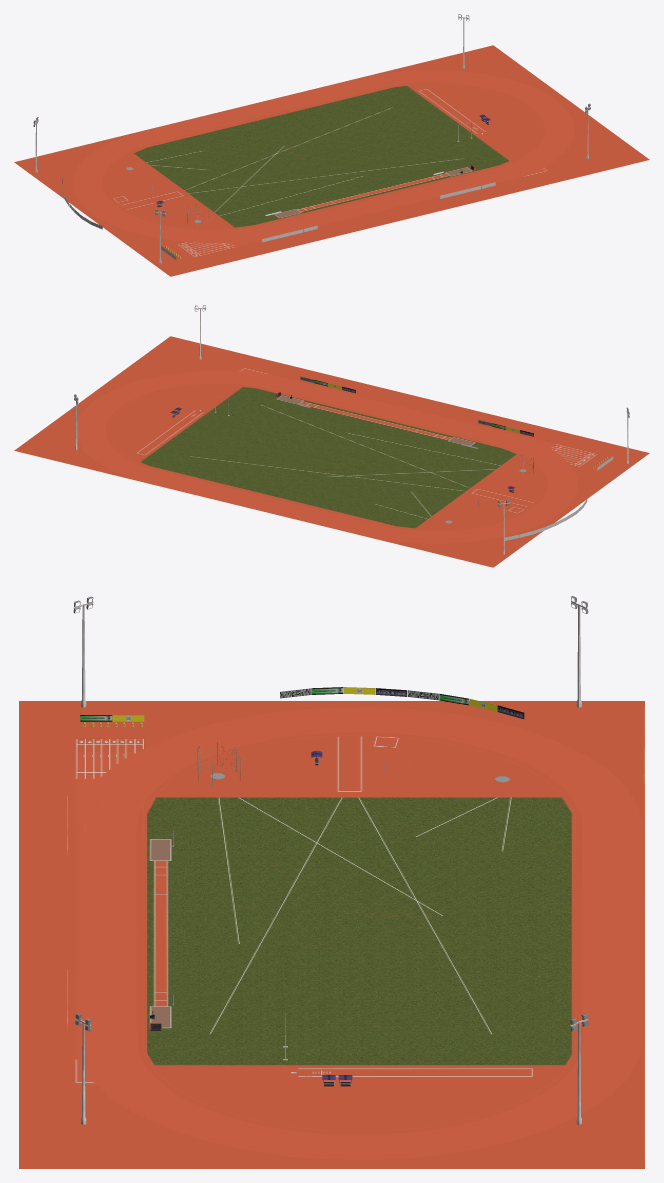
Rendered from stadium.glb.
The picture shows the model from 3 angles, top to bottom: view 1: azimuth 30°, elevation 25°; view 2: azimuth 150°, elevation 25°; view 3: azimuth 270°, elevation 25°; orthographic projection. The views are drawn at different scales.
Visible parts, largest first — view 1: track, furniture; view 2: track, furniture; view 3: track, furniture.
Part boxes in pixels (bbox=[...]): track: bbox=[14, 45, 649, 276]; furniture: bbox=[33, 14, 590, 263]; track: bbox=[14, 336, 649, 567]; furniture: bbox=[74, 305, 629, 554]; track: bbox=[19, 701, 644, 1168]; furniture: bbox=[67, 596, 588, 1124].
Size of the model in its own units: 190 by 20.1 by 106.
1 material, 1 textured.
